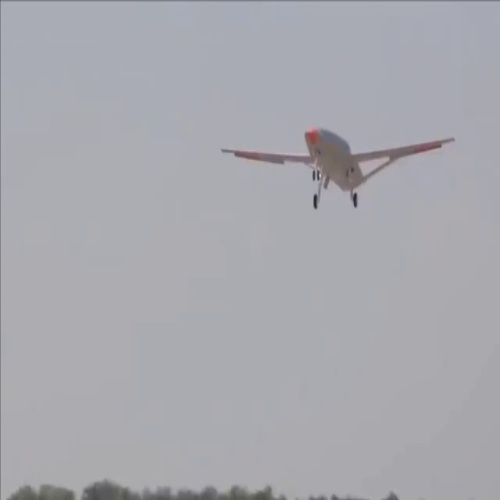uav1035: (219, 125, 455, 213)
